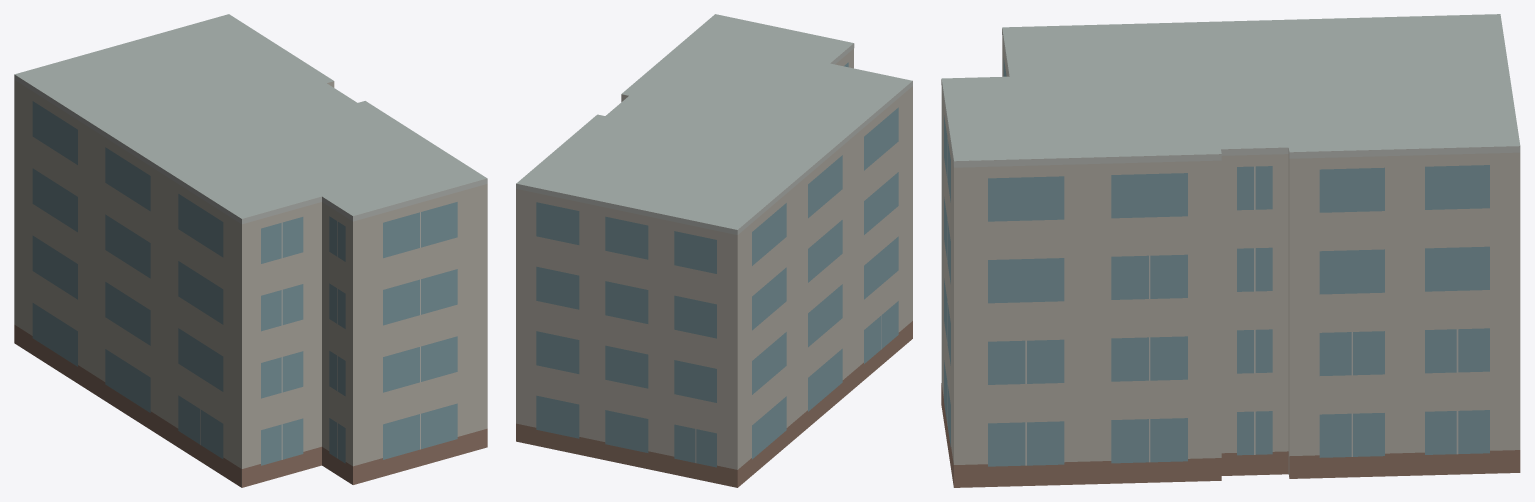
File: survey-upis-32612391.glb
3 views of the same model, side by side, from view 1: azimuth 30°, elevation 25°; view 2: azimuth 150°, elevation 25°; view 3: azimuth 270°, elevation 25° (orthographic). The views are drawn at different scales.
Visible parts, largest first — view 1: survey-upis-32612391.tmp; view 2: survey-upis-32612391.tmp; view 3: survey-upis-32612391.tmp.
Boxes of the visible parts, x1,y1,x2,y2 form: survey-upis-32612391.tmp: (14,14,487,487); survey-upis-32612391.tmp: (516,14,912,487); survey-upis-32612391.tmp: (941,14,1520,487).
Size of the model in its own units: 11.8 by 12.2 by 19.6.
